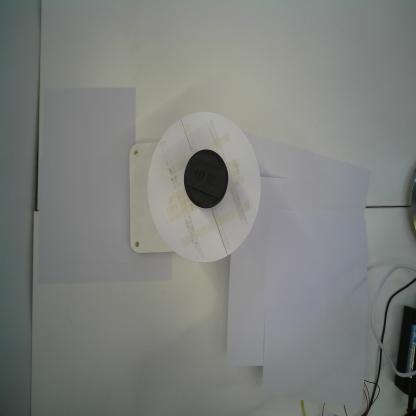Canned Food: (184, 149, 229, 210)
